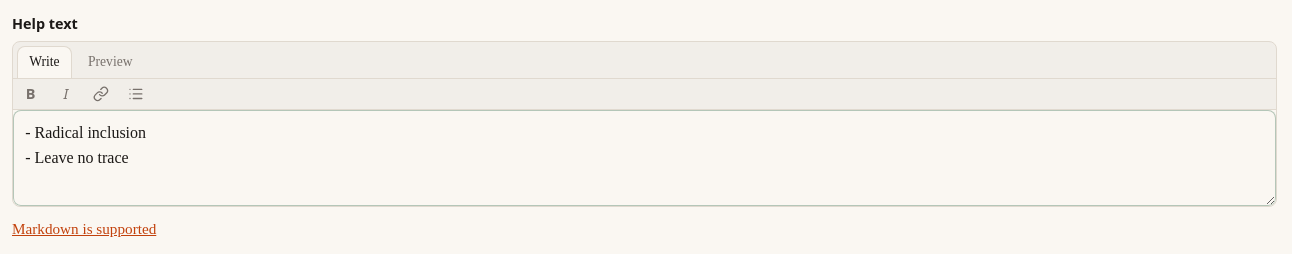
it: MarkdownField › writes until Preview is asked for, and reads it back under the same tabs
The image size is (1292, 254).
What coordinates should you click on to do the following:
click the tab "Preview"
I would click on:
 (110, 62)
Its box is [76,46,145,78].
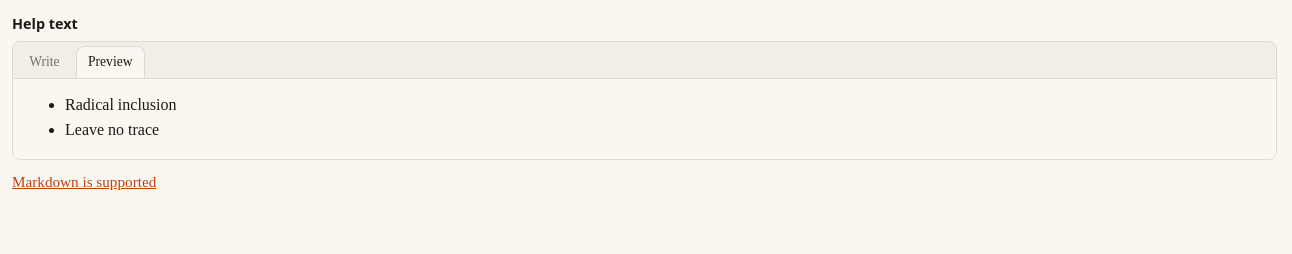
Check: the list items read "Radical inclusion", "Leave no trace", in this order, box [65,96,176,113]; [65,121,159,138]
